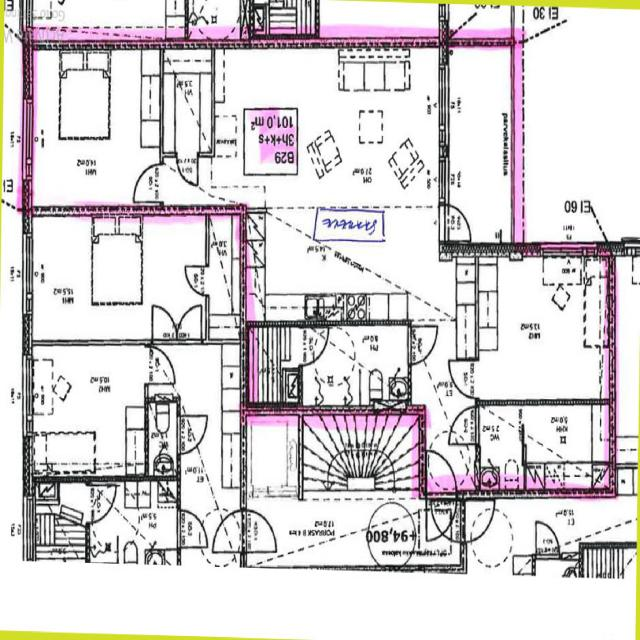door: (427, 490, 456, 540), (427, 448, 456, 498), (439, 205, 474, 241), (299, 328, 329, 365), (449, 407, 479, 444), (449, 361, 479, 398), (134, 164, 163, 202), (408, 326, 437, 364), (177, 152, 197, 185)
